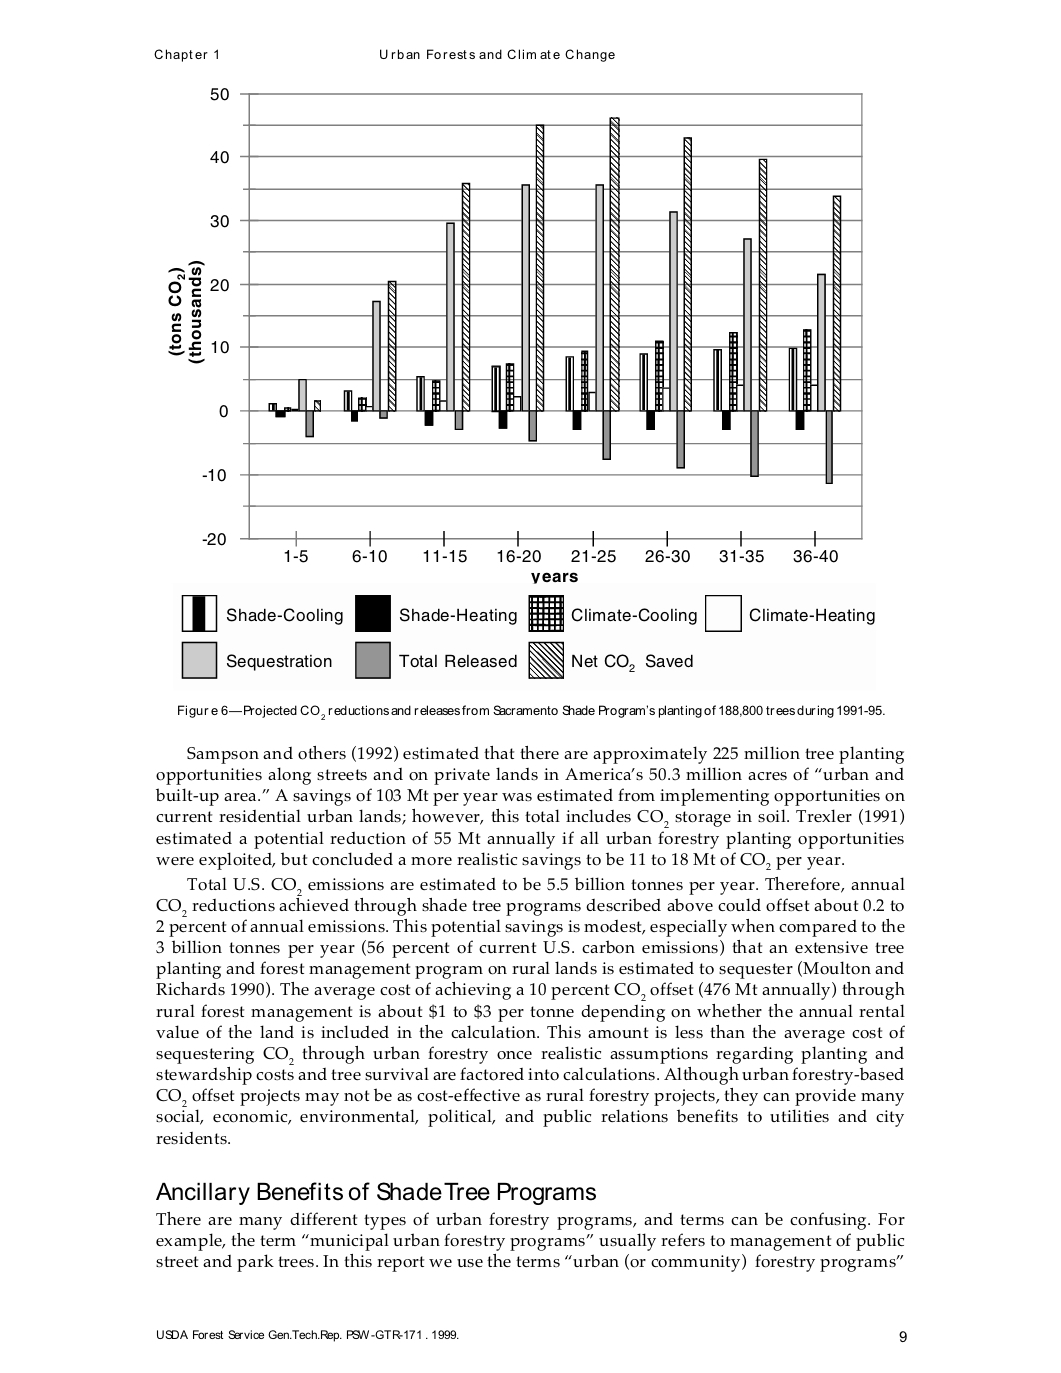figure: (168, 88, 874, 678)
